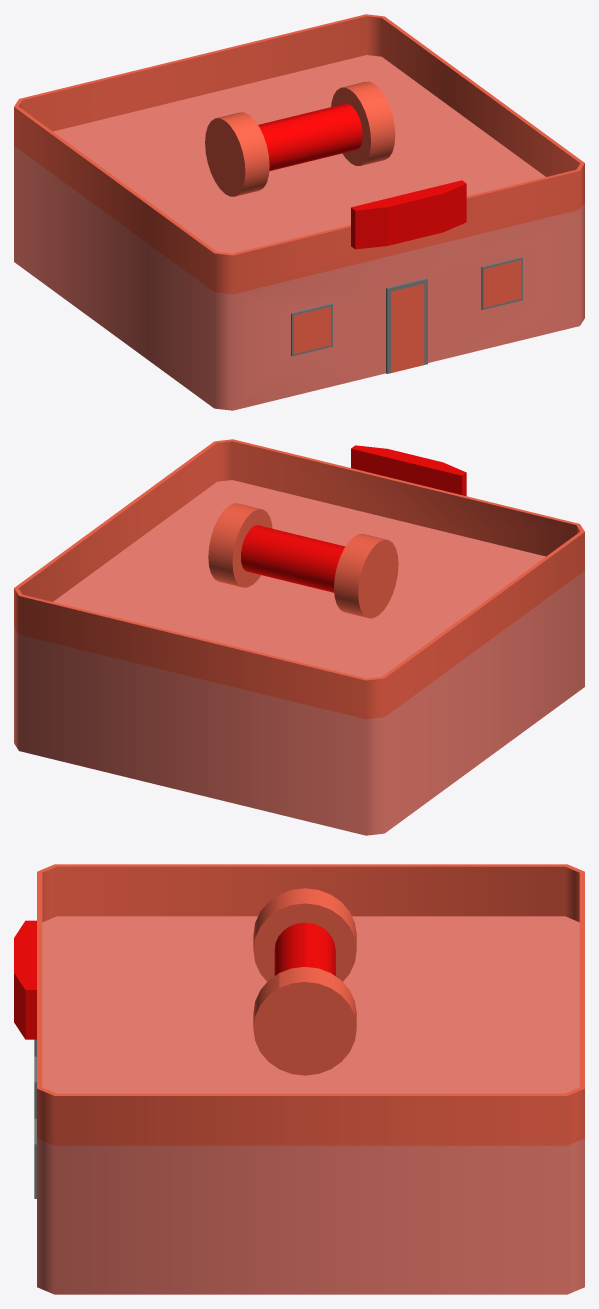
File: Gym.fbx
The picture shows the model from 3 angles, top to bottom: view 1: azimuth 30°, elevation 25°; view 2: azimuth 150°, elevation 25°; view 3: azimuth 270°, elevation 25°; orthographic projection. The views are drawn at different scales.
Visible parts, largest first — view 1: Group1; view 2: Group1; view 3: Group1.
Boxes of the visible parts, <box> form: Group1: <box>14,14,584,410</box>; Group1: <box>14,439,584,835</box>; Group1: <box>14,864,584,1294</box>.
Size of the model in its own units: 1000 by 489 by 1042.
